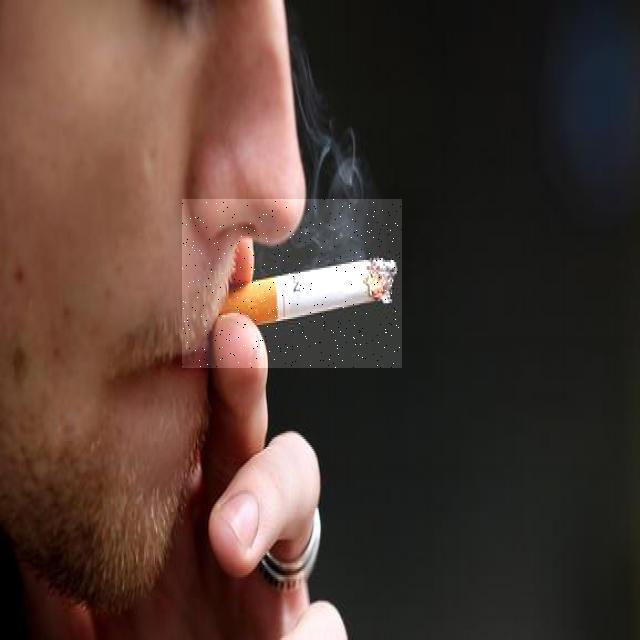smoking: (182, 199, 402, 368)
